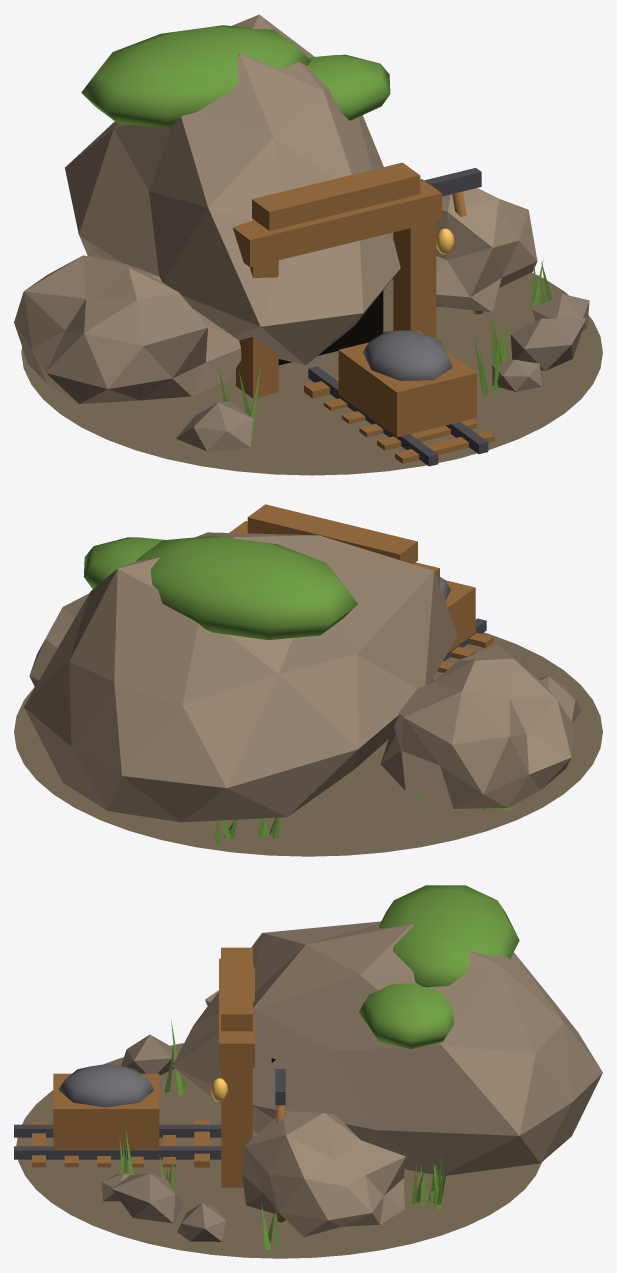
The model's file is improvement_mine.fbx.
3 views of the same model, one above another, from view 1: azimuth 30°, elevation 25°; view 2: azimuth 150°, elevation 25°; view 3: azimuth 270°, elevation 25° (orthographic). The views are drawn at different scales.
Visible parts, largest first — view 1: improvement_mine_rock#9a8670_02, improvement_mine_gpatch#7a6a54r_00, improvement_mine_wood#9a6a38.002_05, improvement_mine_grass#6a9a3e_03, improvement_mine_spoil_09, improvement_mine_oreheap_08, improvement_mine_irondk_07, improvement_mine_leaf#6a9a3a_01, improvement_mine_darkhole_04; view 2: improvement_mine_rock#9a8670_02, improvement_mine_gpatch#7a6a54r_00, improvement_mine_grass#6a9a3e_03, improvement_mine_wood#9a6a38.002_05, improvement_mine_spoil_09, improvement_mine_leaf#6a9a3a_01; view 3: improvement_mine_rock#9a8670_02, improvement_mine_gpatch#7a6a54r_00, improvement_mine_wood#9a6a38.002_05, improvement_mine_grass#6a9a3e_03, improvement_mine_spoil_09, improvement_mine_irondk_07, improvement_mine_oreheap_08, improvement_mine_leaf#6a9a3a_01.
Boxes of the visible parts, x1,y1,x2,y2 form: improvement_mine_rock#9a8670_02: [14, 14, 537, 403]; improvement_mine_gpatch#7a6a54r_00: [21, 272, 602, 475]; improvement_mine_wood#9a6a38.002_05: [232, 162, 494, 463]; improvement_mine_grass#6a9a3e_03: [81, 25, 390, 128]; improvement_mine_spoil_09: [176, 294, 589, 451]; improvement_mine_oreheap_08: [363, 330, 452, 380]; improvement_mine_irondk_07: [308, 168, 488, 466]; improvement_mine_leaf#6a9a3a_01: [219, 258, 552, 428]; improvement_mine_darkhole_04: [278, 290, 383, 365]; improvement_mine_rock#9a8670_02: [24, 532, 574, 822]; improvement_mine_gpatch#7a6a54r_00: [14, 632, 602, 856]; improvement_mine_grass#6a9a3e_03: [83, 535, 357, 639]; improvement_mine_wood#9a6a38.002_05: [229, 504, 493, 683]; improvement_mine_spoil_09: [539, 676, 581, 723]; improvement_mine_leaf#6a9a3a_01: [215, 660, 524, 844]; improvement_mine_rock#9a8670_02: [172, 921, 602, 1236]; improvement_mine_gpatch#7a6a54r_00: [16, 1043, 541, 1258]; improvement_mine_wood#9a6a38.002_05: [32, 947, 285, 1222]; improvement_mine_grass#6a9a3e_03: [359, 885, 519, 1048]; improvement_mine_spoil_09: [101, 1034, 225, 1241]; improvement_mine_irondk_07: [14, 1069, 285, 1159]; improvement_mine_oreheap_08: [58, 1064, 153, 1107]; improvement_mine_leaf#6a9a3a_01: [119, 1019, 445, 1250].
Size of the model in its own units: 124 by 58.93 by 135.
